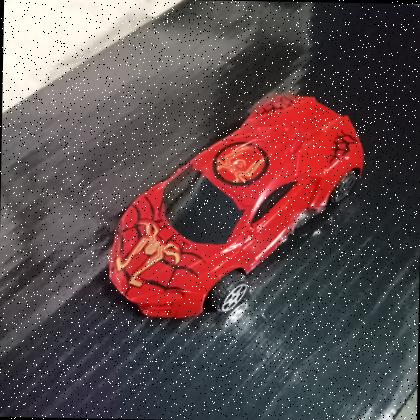Car: (98, 84, 373, 330)
